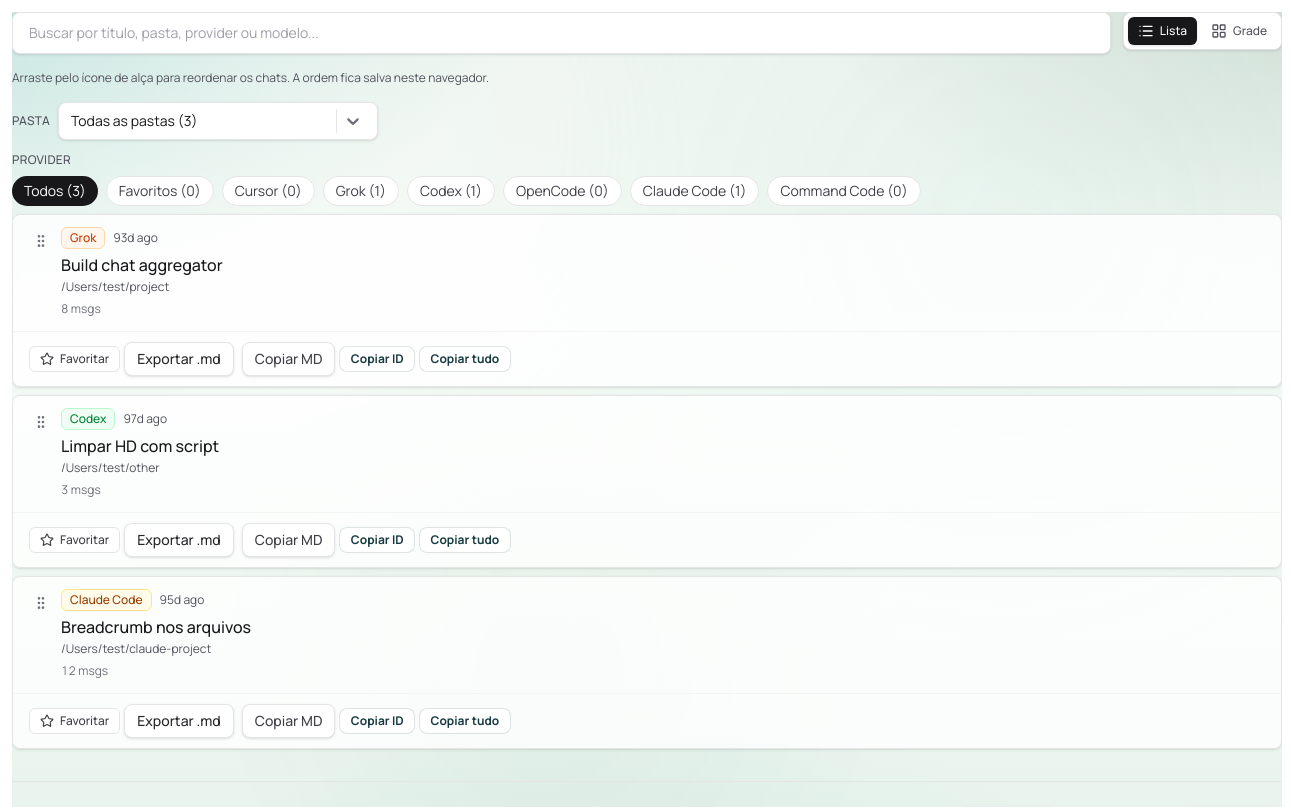
it: ChatList › filters chats by provider via backend
Step 1. Click the button "Grok (1)" → (361, 191), box [323,176,399,206]
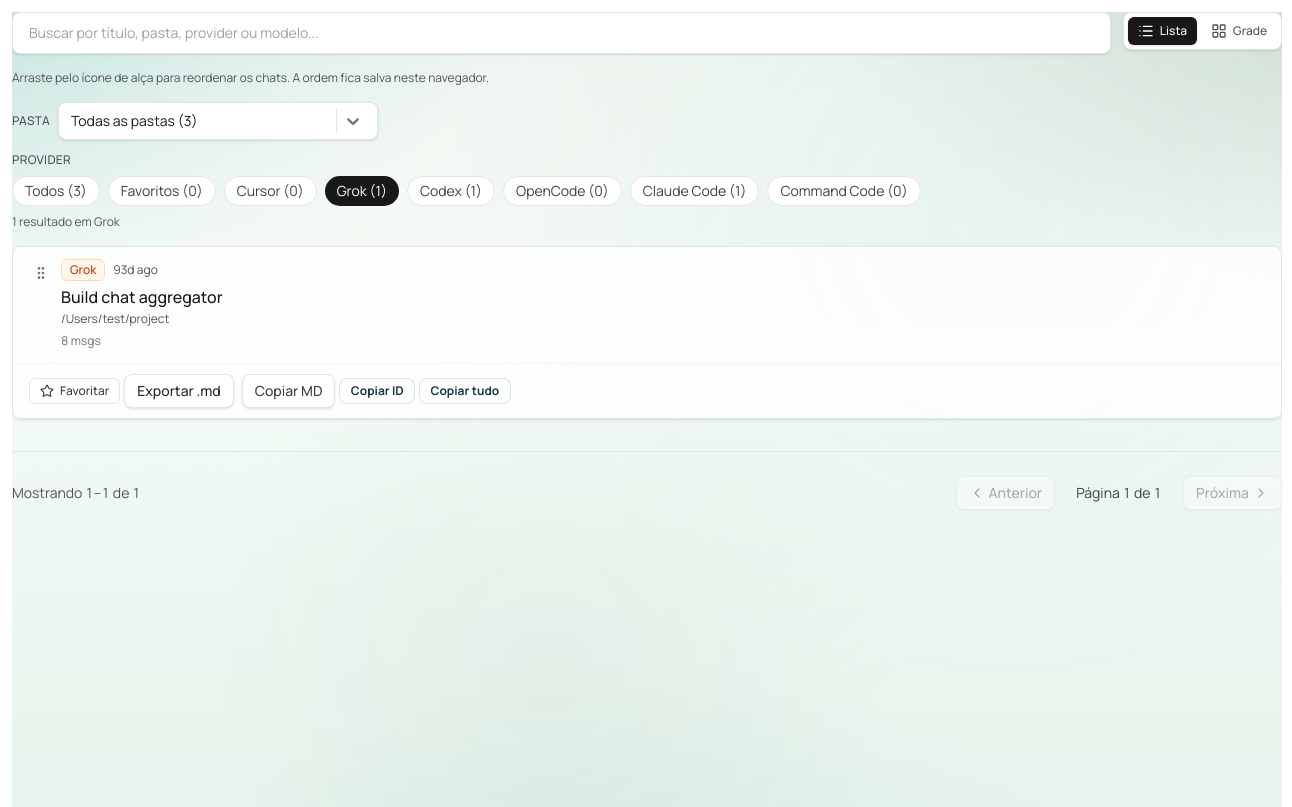
Expected: the text "Build chat aggregator" is shown, [61,285,223,309]
Expected: the link "Limpar HD com script" is gone
Expected: the text "1 resultado em Grok" is shown, [12,213,120,230]
